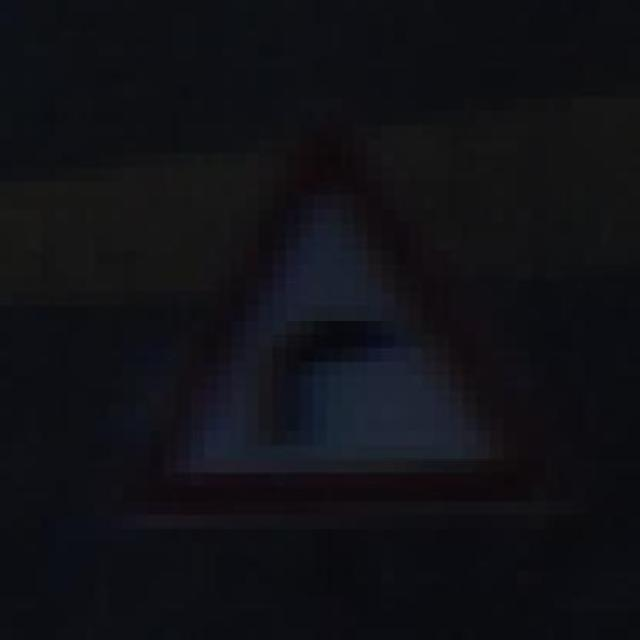Dangerous Rright Curve Ahead: (123, 111, 559, 529)
